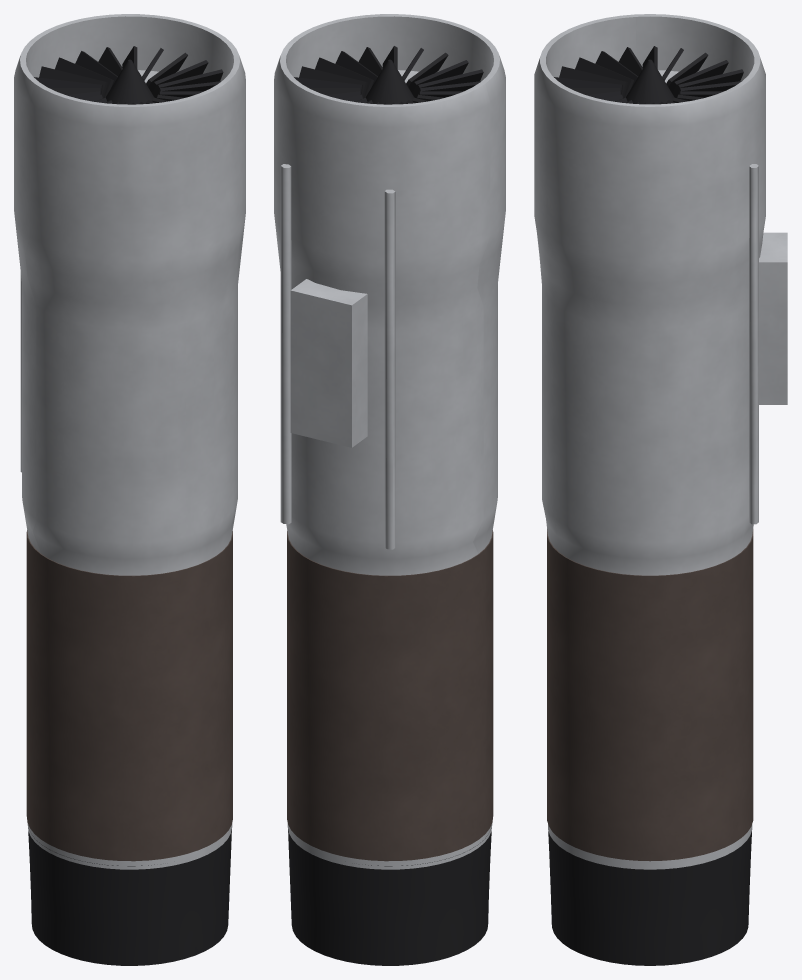
The model's file is jet02_low_bypass_fan_ab.glb.
The picture shows the model from 3 angles, left to right: view 1: azimuth 30°, elevation 25°; view 2: azimuth 150°, elevation 25°; view 3: azimuth 270°, elevation 25°; orthographic projection.
Parts seen in each view (by area): view 1: casing, ab_section, nozzle, spinner_vanes; view 2: casing, ab_section, plumbing, nozzle, spinner_vanes; view 3: casing, ab_section, nozzle, plumbing, spinner_vanes.
Boxes of the visible parts, box(x1,y1,x2,y2) form: casing: box(14, 14, 245, 869); ab_section: box(26, 530, 232, 861); nozzle: box(28, 829, 231, 965); spinner_vanes: box(34, 46, 223, 104); casing: box(274, 14, 505, 869); ab_section: box(287, 530, 493, 861); plumbing: box(280, 164, 395, 549); nozzle: box(288, 829, 491, 965); spinner_vanes: box(294, 46, 483, 104); casing: box(534, 14, 765, 869); ab_section: box(547, 529, 753, 861); nozzle: box(548, 831, 751, 965); plumbing: box(749, 164, 787, 524); spinner_vanes: box(554, 46, 743, 104).
Bounding box in the file's own units: 1.18 × 4.85 × 1.29.
3 materials, 2 textured.
